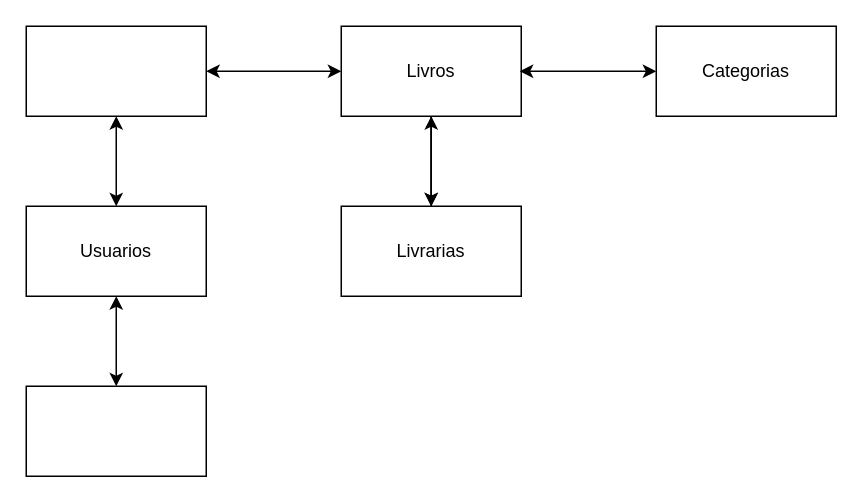
The diagram is 863 pixels wide and 503 high, and some of its shapes have lost their labels. The centre of each missing label's shape, as x and y in pixels:
"Autores" goes at [115,70].
"TiposUsuarios" goes at [115,430].
